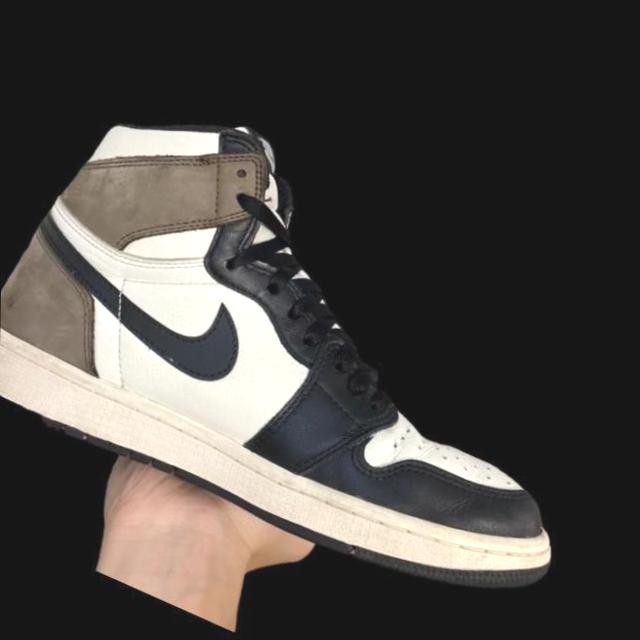nike_original_jordan: (0, 56, 640, 628)
